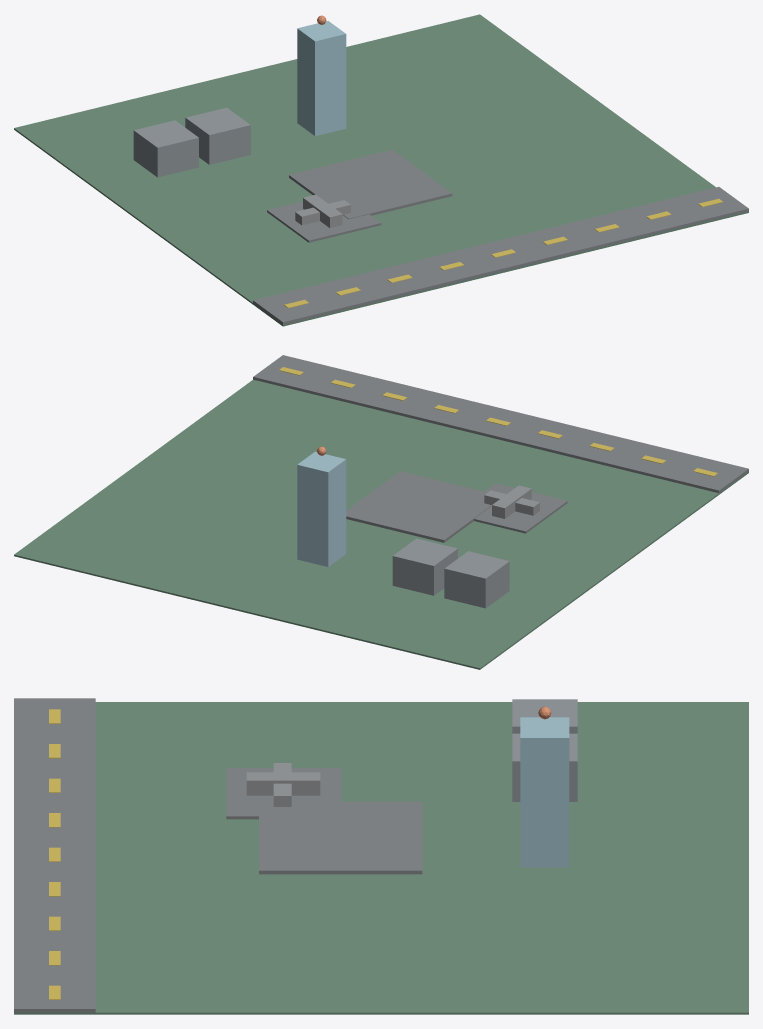
Rendered from stage_05.glb.
3 renders of one model, top to bottom at view 1: azimuth 30°, elevation 25°; view 2: azimuth 150°, elevation 25°; view 3: azimuth 270°, elevation 25°, orthographic. The views are drawn at different scales.
Parts seen in each view (by area): view 1: geometry_0; view 2: geometry_0; view 3: geometry_0.
Boxes of the visible parts, x1,y1,x2,y2 form: geometry_0: [14, 14, 748, 326]; geometry_0: [14, 355, 748, 669]; geometry_0: [14, 698, 748, 1014].
Bounding box in the file's own units: 9 × 2.06 × 9.
